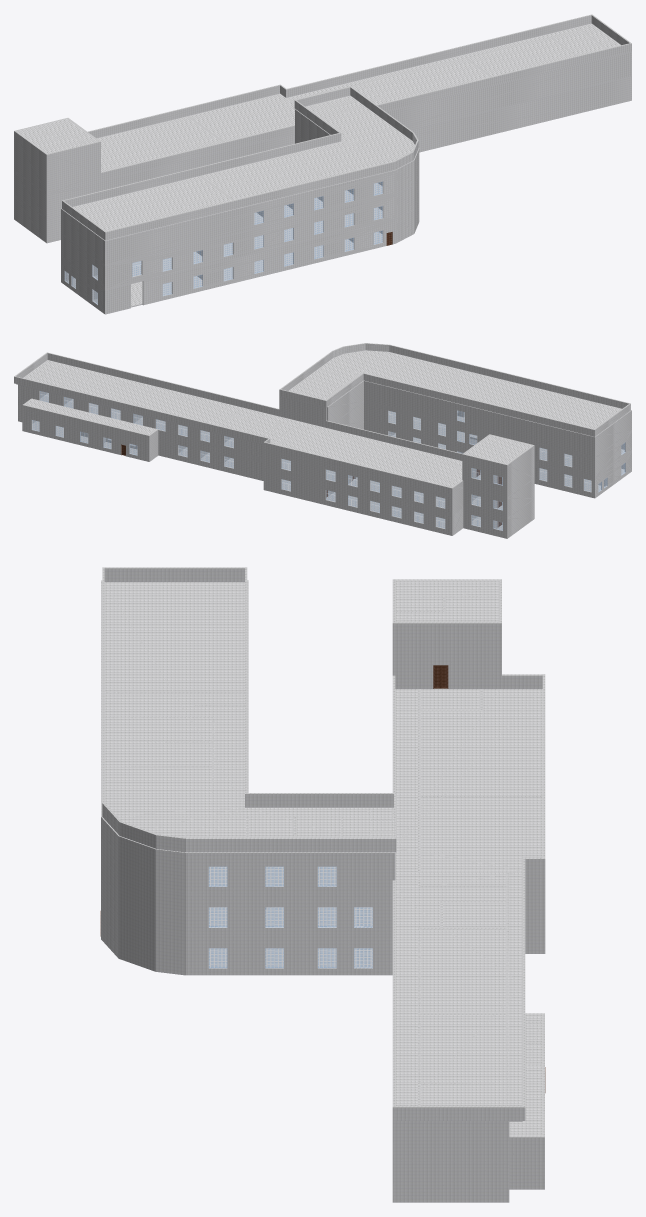
File: hql-building.glb
The picture shows the model from 3 angles, top to bottom: view 1: azimuth 30°, elevation 25°; view 2: azimuth 150°, elevation 25°; view 3: azimuth 270°, elevation 25°; orthographic projection. The views are drawn at different scales.
Parts seen in each view (by area): view 1: 3F_Ceiling, 3F, 2F, 1F, 2F_Ceiling, 2F窗, 1F_Ceiling, 1F窗, 3F窗; view 2: 3F_Ceiling, 3F, 1F, 2F, 2F_Ceiling, 2F窗, 1F窗, 1F_Ceiling; view 3: 3F_Ceiling, 3F, 1F, 2F, 2F_Ceiling, 1F_Ceiling, 2F窗, 1F窗, 3F窗.
Part boxes in pixels (<box>): 3F_Ceiling: <box>14,14,631,240</box>; 3F: <box>14,15,631,265</box>; 2F: <box>14,51,631,289</box>; 1F: <box>14,76,631,314</box>; 2F_Ceiling: <box>92,26,606,280</box>; 2F窗: <box>92,206,382,280</box>; 1F_Ceiling: <box>65,231,382,306</box>; 1F窗: <box>65,230,382,304</box>; 3F窗: <box>254,181,382,224</box>; 3F_Ceiling: <box>14,343,631,488</box>; 3F: <box>14,343,631,497</box>; 1F: <box>18,401,631,538</box>; 2F: <box>18,384,631,518</box>; 2F_Ceiling: <box>24,367,625,510</box>; 2F窗: <box>40,391,625,510</box>; 1F窗: <box>32,420,625,530</box>; 1F_Ceiling: <box>23,398,625,530</box>; 3F_Ceiling: <box>101,567,545,1107</box>; 3F: <box>101,568,545,1121</box>; 1F: <box>101,899,545,1202</box>; 2F: <box>101,858,545,1161</box>; 2F_Ceiling: <box>208,688,542,1136</box>; 1F_Ceiling: <box>209,948,544,1137</box>; 2F窗: <box>208,907,372,927</box>; 1F窗: <box>208,948,372,968</box>; 3F窗: <box>208,866,336,886</box>.
Bounding box in the file's own units: 94.44 × 13 × 35.53.
6 materials, 6 textured.
